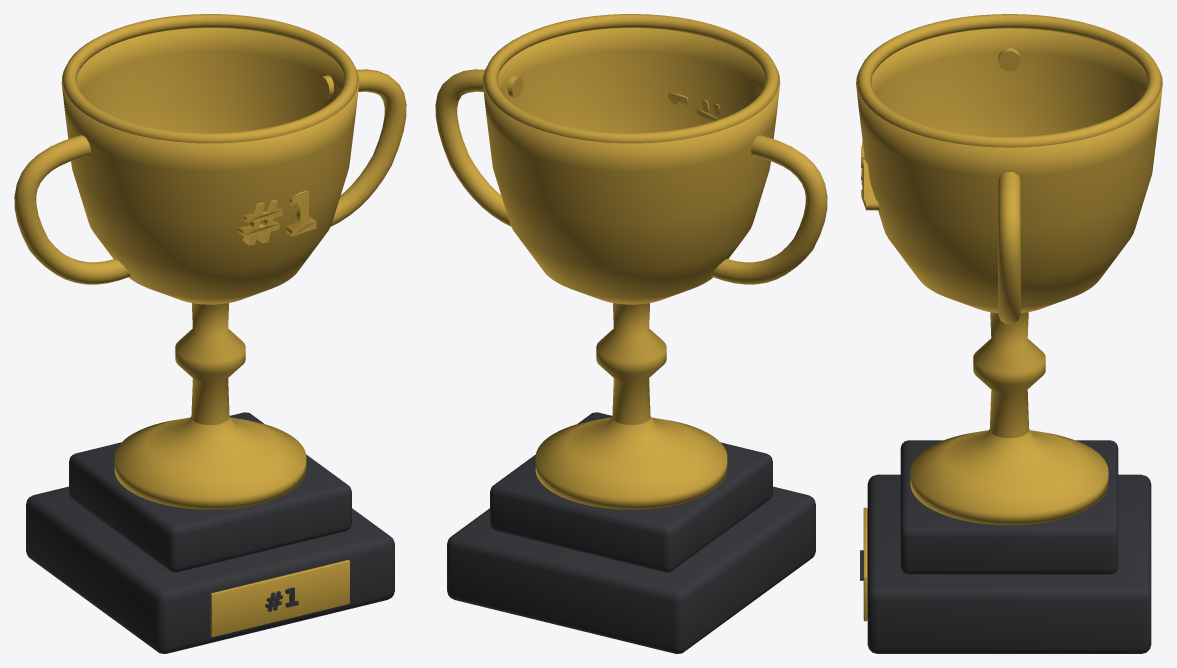
File: trophy.glb
3 views of the same model, side by side, from view 1: azimuth 30°, elevation 25°; view 2: azimuth 150°, elevation 25°; view 3: azimuth 270°, elevation 25° (orthographic). The views are drawn at different scales.
Visible parts, largest first — view 1: Cup, Base, Base2, Foot, Handle, CupRim, Plate, Stem, CupText; view 2: Cup, Base, Base2, Foot, Handle, CupRim, Stem; view 3: Cup, Base, Foot, Base2, CupRim, Stem, Handle, CupText, Plate.
Part boxes in pixels (left/top/right/bottom): Cup: left=61, top=28, right=359, bottom=304; Base: left=26, top=486, right=394, bottom=653; Base2: left=69, top=412, right=351, bottom=572; Foot: left=114, top=416, right=306, bottom=509; Handle: left=14, top=69, right=406, bottom=284; CupRim: left=62, top=14, right=358, bottom=143; Plate: left=210, top=560, right=349, bottom=637; Stem: left=175, top=303, right=245, bottom=424; CupText: left=238, top=190, right=316, bottom=245; Cup: left=482, top=28, right=780, bottom=304; Base: left=447, top=486, right=815, bottom=653; Base2: left=490, top=412, right=772, bottom=572; Foot: left=535, top=416, right=727, bottom=509; Handle: left=435, top=69, right=827, bottom=284; CupRim: left=483, top=14, right=779, bottom=143; Stem: left=596, top=303, right=666, bottom=424; Cup: left=856, top=28, right=1162, bottom=312; Base: left=867, top=474, right=1151, bottom=653; Foot: left=910, top=429, right=1108, bottom=525; Base2: left=900, top=440, right=1118, bottom=574; CupRim: left=857, top=14, right=1161, bottom=147; Stem: left=973, top=312, right=1045, bottom=437; Handle: left=998, top=48, right=1020, bottom=324; CupText: left=861, top=141, right=879, bottom=210; Plate: left=863, top=507, right=867, bottom=621.
Size of the model in its own units: 1.4 by 1.74 by 0.9298.
